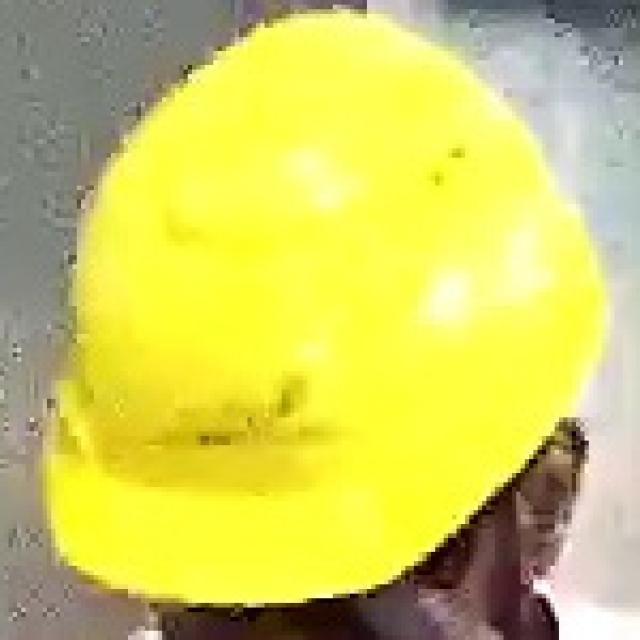yellow helmet: (30, 10, 611, 608)
